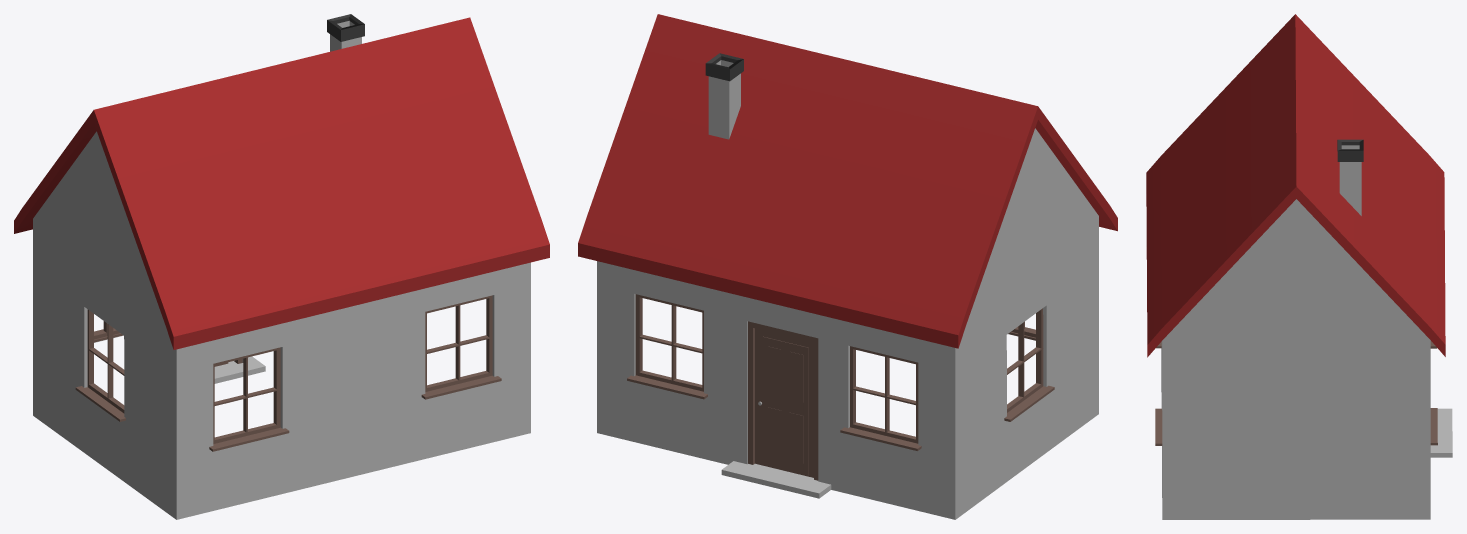
The model's file is cottage.glb.
The picture shows the model from 3 angles, left to right: view 1: azimuth 30°, elevation 25°; view 2: azimuth 150°, elevation 25°; view 3: azimuth 270°, elevation 25°; orthographic projection. The views are drawn at different scales.
Visible parts, largest first — view 1: Box001, Box040, Box003, Box022, Box029; view 2: Box001, Box039, Plane006, Box040, Box002, Box032, Box003, Box035, Box036, Box038, Box037, Box033 (+3 smaller); view 3: Box001, Box002, Box040, Box003.
Part boxes in pixels (x1,y1,x2,y2): Box001: (14, 17, 549, 519); Box040: (214, 356, 265, 383); Box003: (327, 14, 364, 41); Box022: (421, 375, 501, 399); Box029: (209, 427, 289, 451); Box001: (578, 14, 1117, 519); Box039: (763, 336, 808, 475); Plane006: (755, 328, 813, 477); Box040: (721, 461, 831, 498); Box002: (708, 60, 740, 139); Box032: (748, 326, 754, 464); Box003: (705, 53, 743, 81); Box035: (767, 346, 781, 397); Box036: (789, 351, 803, 402); Box038: (767, 407, 781, 458); Box037: (789, 412, 803, 463); Box033: (814, 338, 818, 480); Box001: (1146, 14, 1445, 519); Box002: (1339, 145, 1361, 215); Box040: (1430, 408, 1452, 457); Box003: (1337, 139, 1363, 161).
Bounding box in the file's own units: 10.55 × 9.75 × 7.9.
